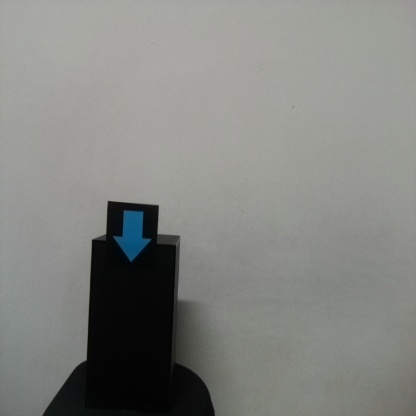id_2: (107, 203, 157, 284)
